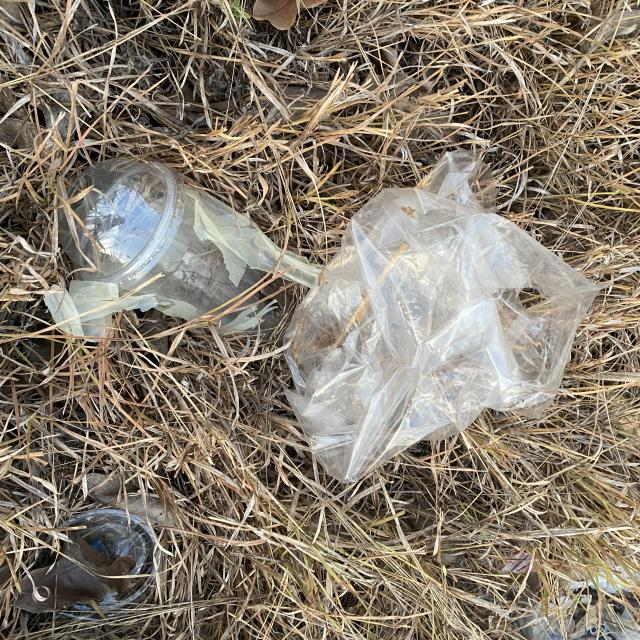Single-layer Plastic: (285, 150, 604, 482)
